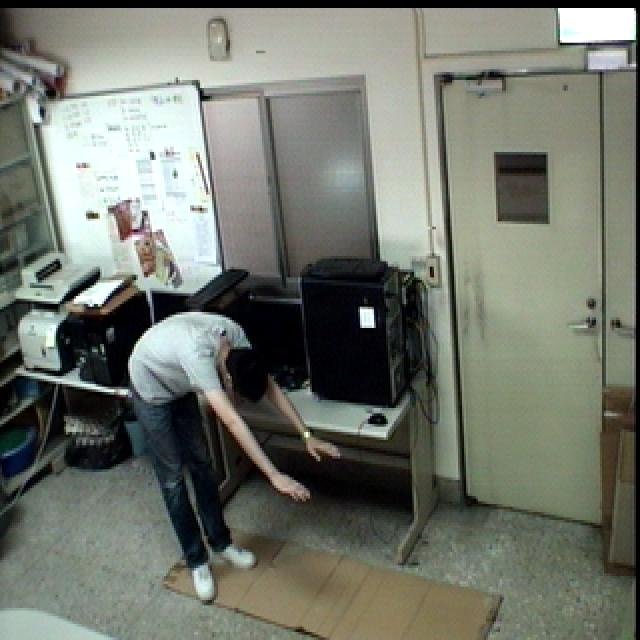bend: (127, 307, 355, 616)
